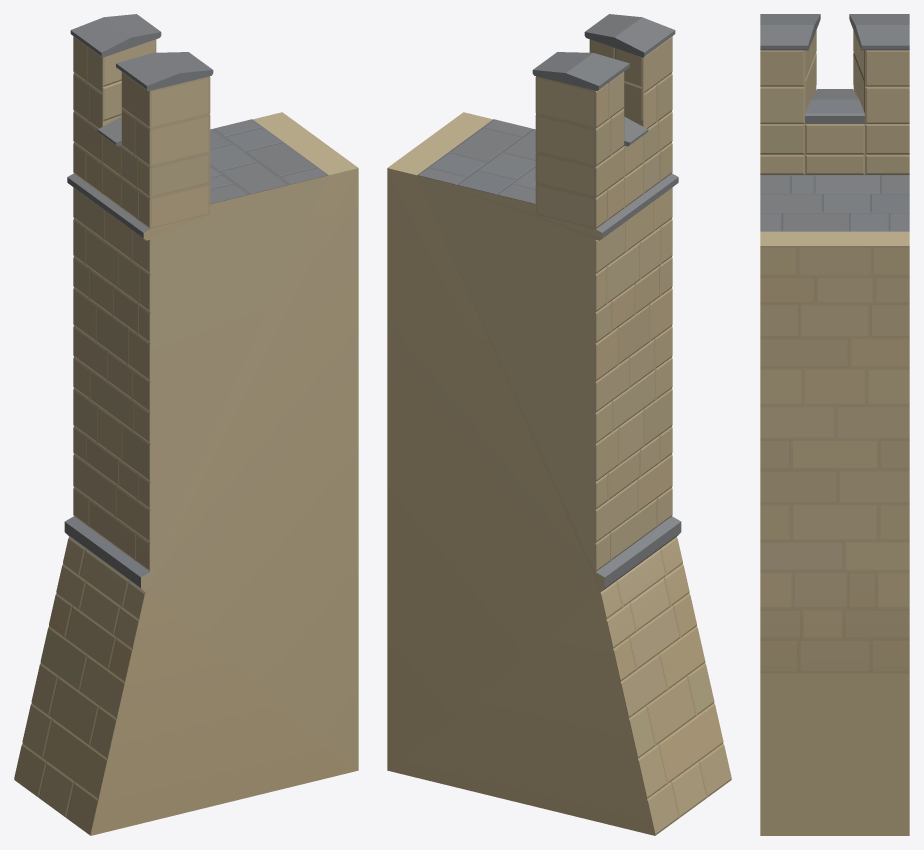
The picture shows the model from 3 angles, left to right: view 1: azimuth 30°, elevation 25°; view 2: azimuth 150°, elevation 25°; view 3: azimuth 270°, elevation 25°; orthographic projection. The views are drawn at different scales.
Parts seen in each view (by area): view 1: Mesh_Limestone, Mesh_Granite; view 2: Mesh_Limestone, Mesh_Granite; view 3: Mesh_Limestone, Mesh_Granite.
Boxes of the visible parts, x1=… form: Mesh_Limestone: x1=14, y1=36, x2=358, y2=835; Mesh_Granite: x1=64, y1=14, x2=328, y2=592; Mesh_Limestone: x1=387, y1=36, x2=731, y2=835; Mesh_Granite: x1=417, y1=14, x2=681, y2=592; Mesh_Limestone: x1=760, y1=30, x2=909, y2=835; Mesh_Granite: x1=760, y1=14, x2=909, y2=231.
Size of the model in its own units: 4.05 by 10.7 by 2.
